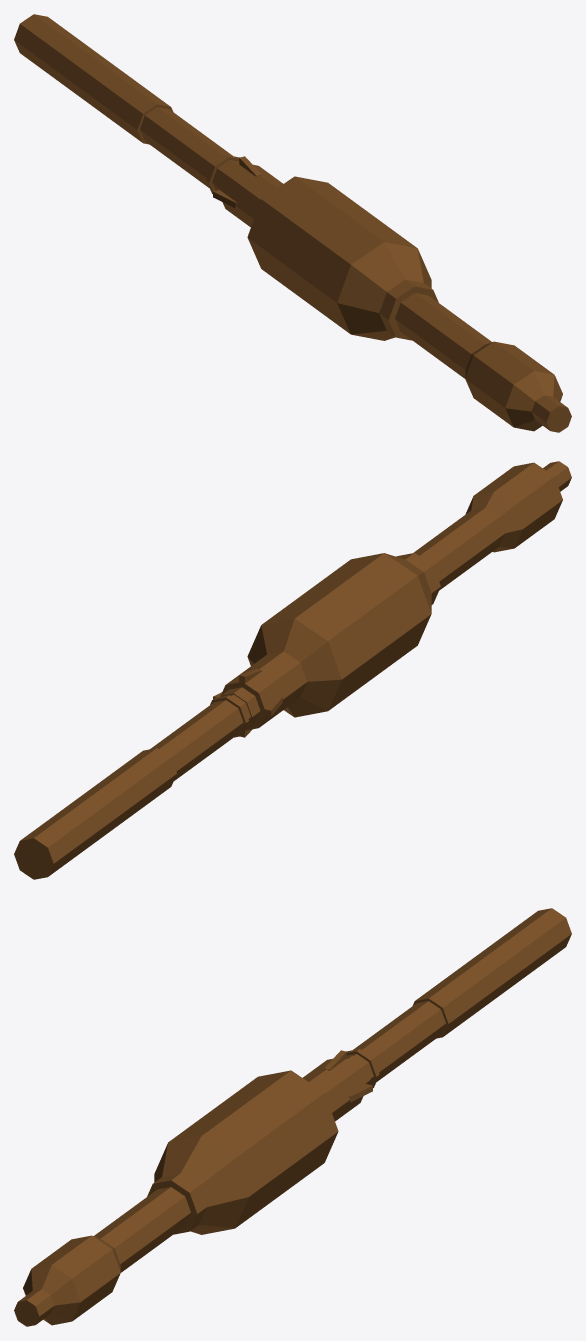
3 renders of one model, top to bottom at view 1: azimuth 30°, elevation 25°; view 2: azimuth 150°, elevation 25°; view 3: azimuth 330°, elevation 25°, orthographic.
Visible parts, largest first — view 1: pg7vr; view 2: pg7vr; view 3: pg7vr.
Boxes of the visible parts, x1,y1,x2,y2 form: pg7vr: [14, 14, 571, 432]; pg7vr: [14, 461, 571, 879]; pg7vr: [14, 908, 571, 1326].
Size of the model in its own units: 0.0967 by 0.0967 by 0.9312.
Materials: 1 (1 with a texture image).
